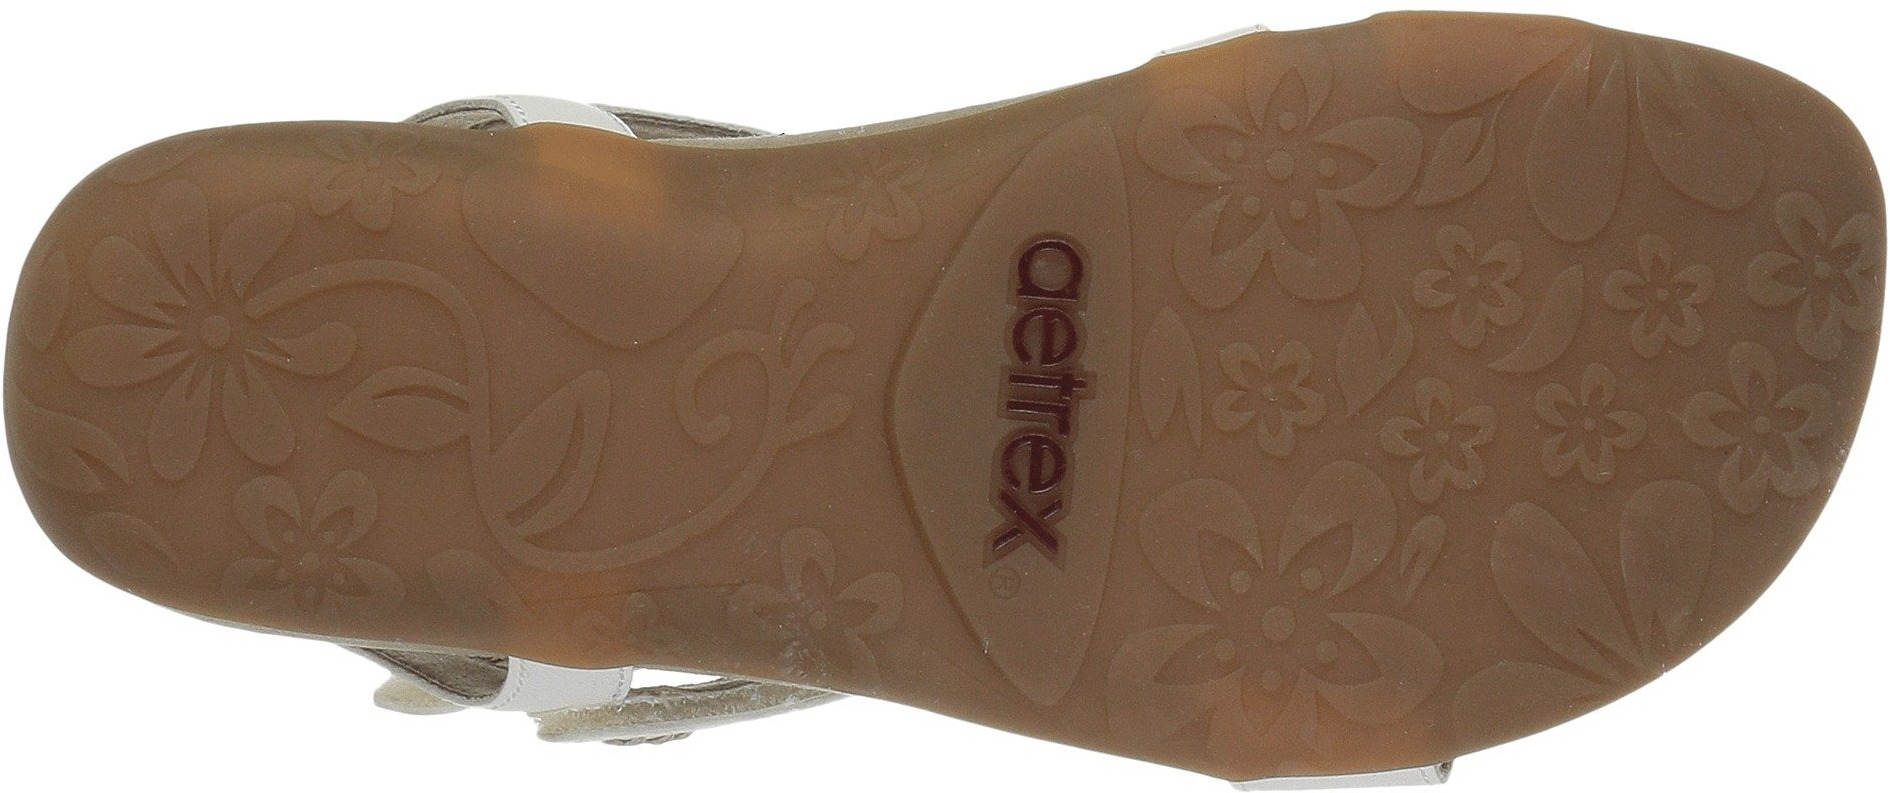other: (1132, 61, 1741, 609), (507, 211, 931, 603), (133, 208, 532, 566)
text: (972, 228, 1117, 372), (968, 359, 1100, 492), (967, 435, 1092, 568)
